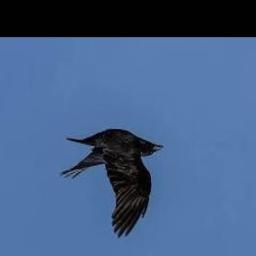Crow: (60, 130, 163, 239)
